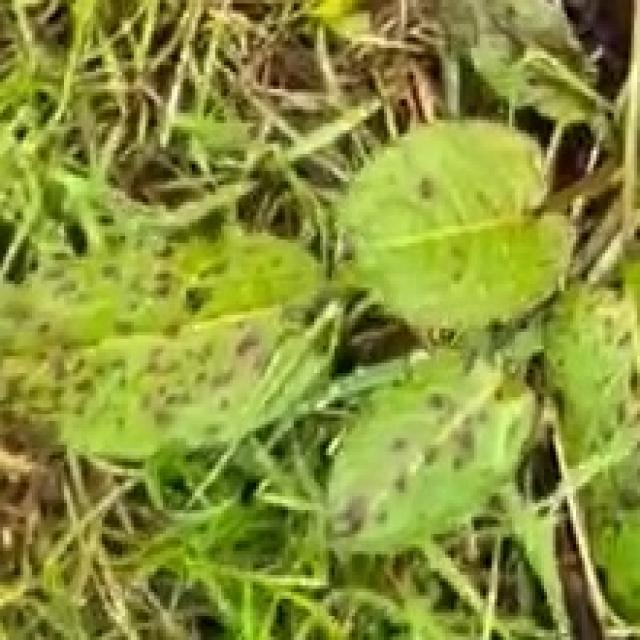organic waste: (36, 104, 640, 533)
